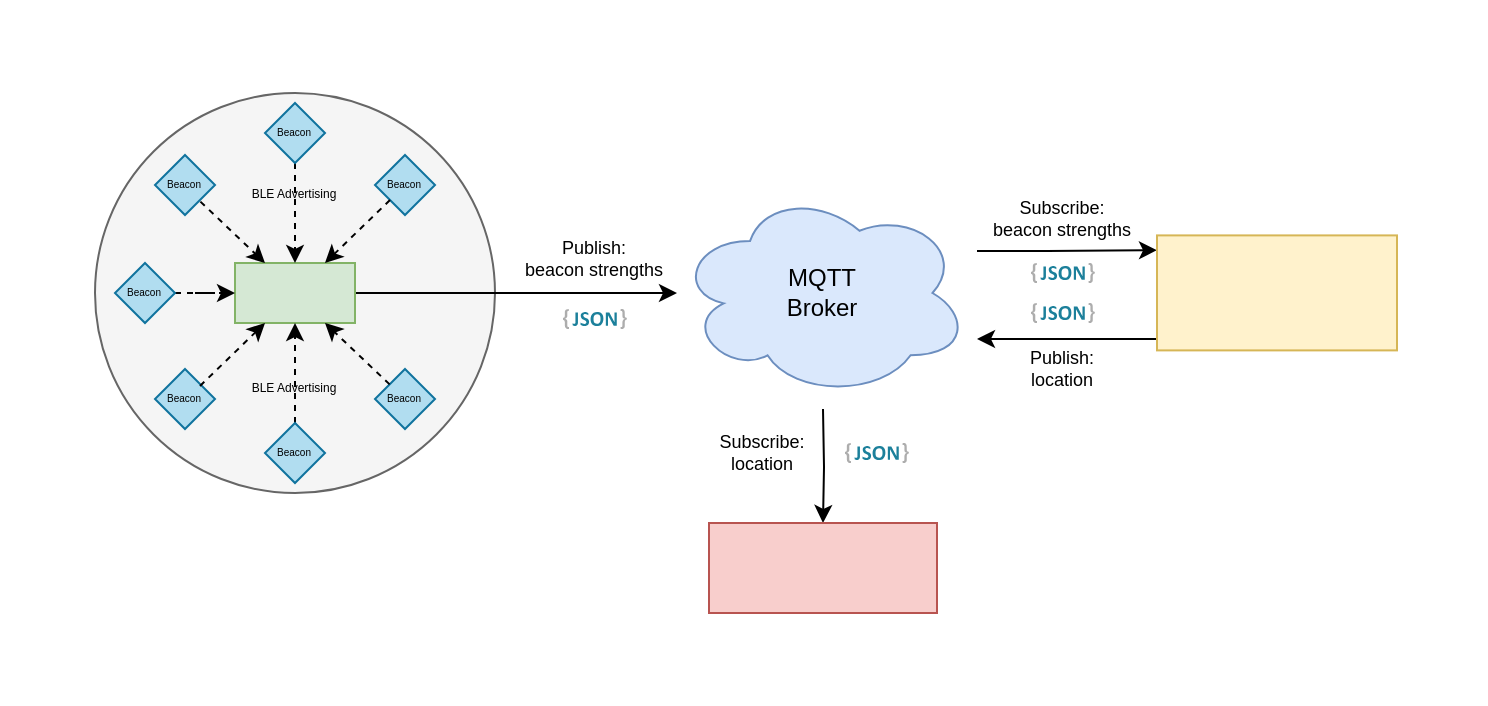
Image size: 1488x706. Some labels were removed from this diagram. Each missing label, with the centre of its shape:
"ESP32" belongs at (x=294, y=292).
"Frontend App (Floor Map)" belongs at (x=822, y=567).
"Python Backend" belongs at (x=1276, y=291).
